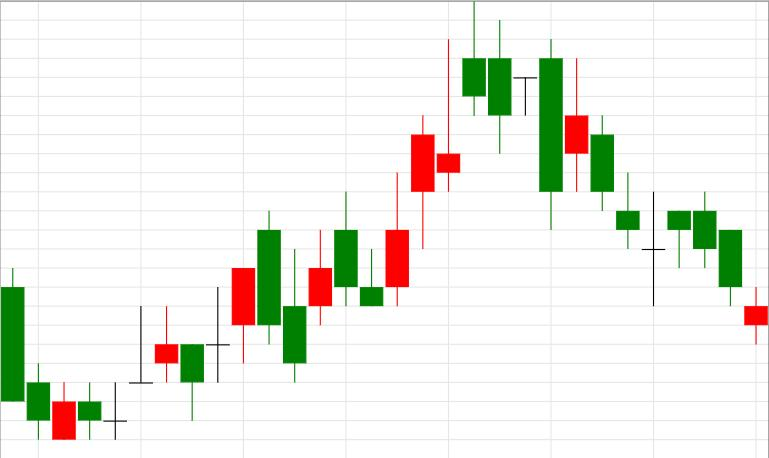shooting_star_fall: (385, 1, 485, 307)
